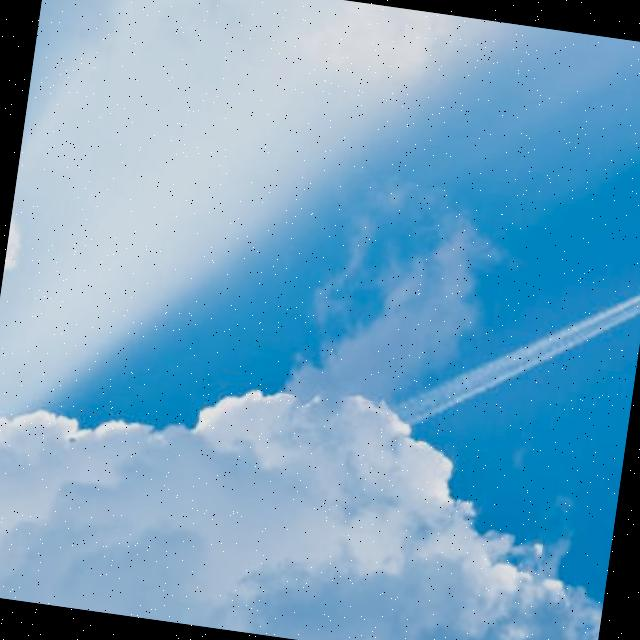Ct: (299, 221, 640, 472)
